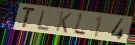1: (93, 15, 104, 38)
4: (110, 17, 125, 42)
K: (54, 11, 73, 35)
L: (72, 12, 87, 37), (37, 8, 50, 32)
T: (21, 6, 36, 29)
